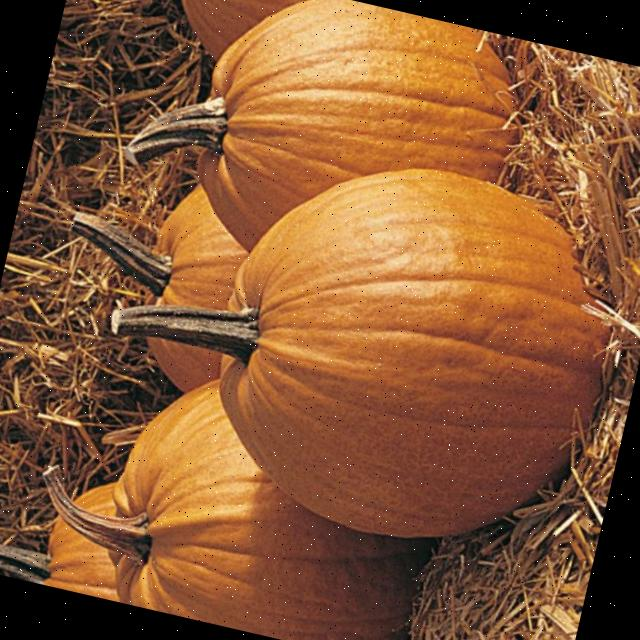pumpkin: (111, 169, 606, 536), (44, 380, 430, 640), (125, 0, 515, 248), (70, 184, 247, 308), (0, 517, 119, 601), (182, 0, 305, 59), (148, 336, 220, 390), (76, 482, 115, 515)
